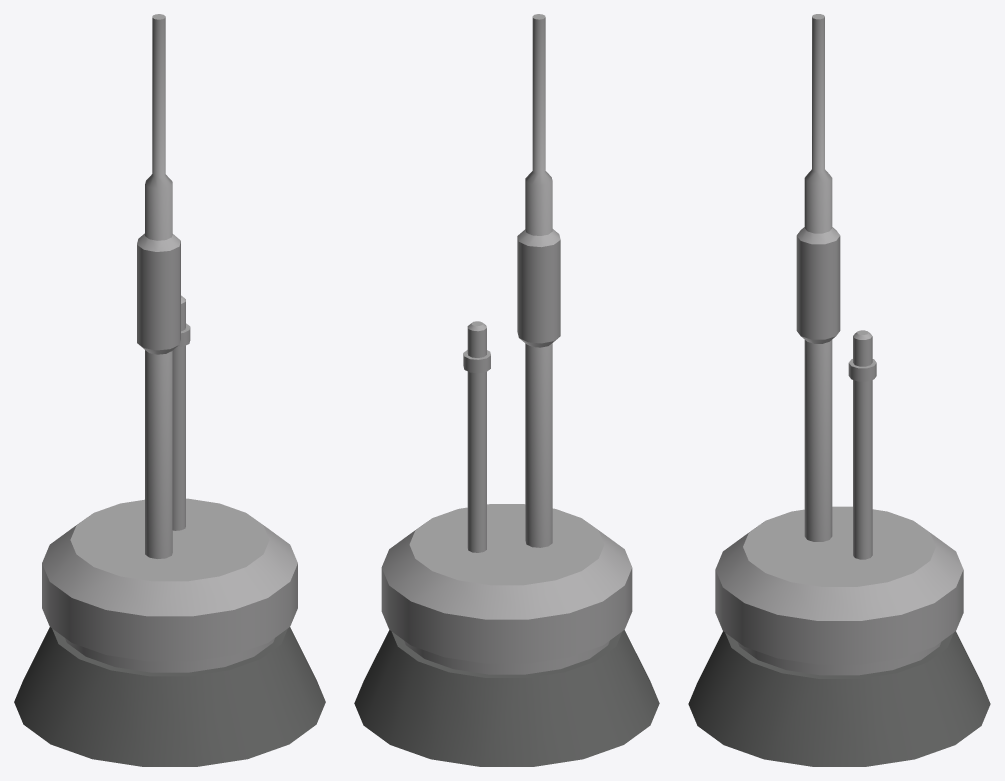
The model's file is Roof_Antenna_Cylinder.obj.
3 views of the same model, side by side, from view 1: azimuth 30°, elevation 25°; view 2: azimuth 150°, elevation 25°; view 3: azimuth 270°, elevation 25° (orthographic). The views are drawn at different scales.
Visible parts, largest first — view 1: Roof_Antenna_Cylinder.012; view 2: Roof_Antenna_Cylinder.012; view 3: Roof_Antenna_Cylinder.012.
Part boxes in pixels (x1=…): Roof_Antenna_Cylinder.012: x1=14, y1=14, x2=325, y2=766; Roof_Antenna_Cylinder.012: x1=354, y1=14, x2=659, y2=766; Roof_Antenna_Cylinder.012: x1=688, y1=14, x2=990, y2=766.
Bounding box in the file's own units: 1.41 × 3.54 × 1.43.
